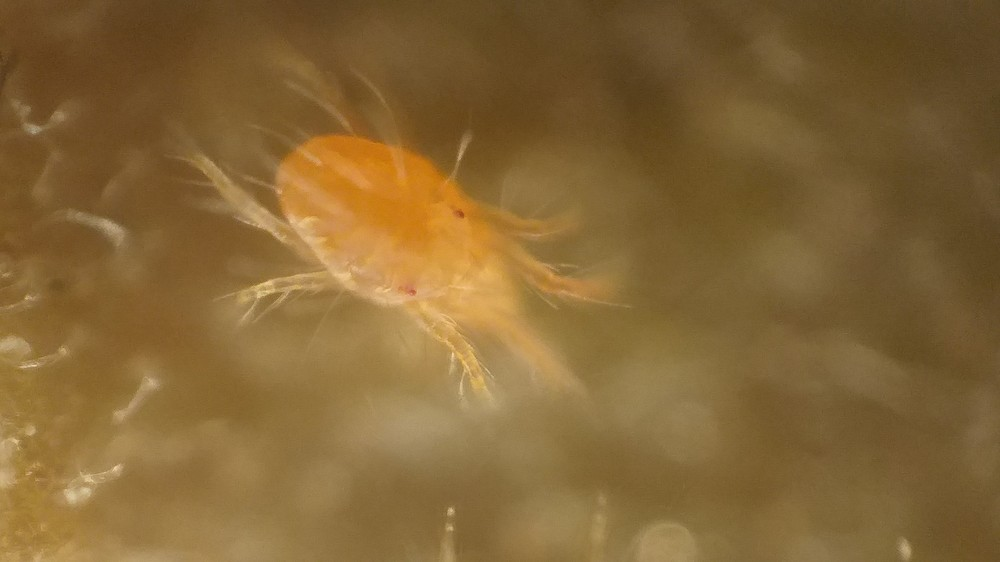Aracnido Rojo: (176, 58, 656, 431)
